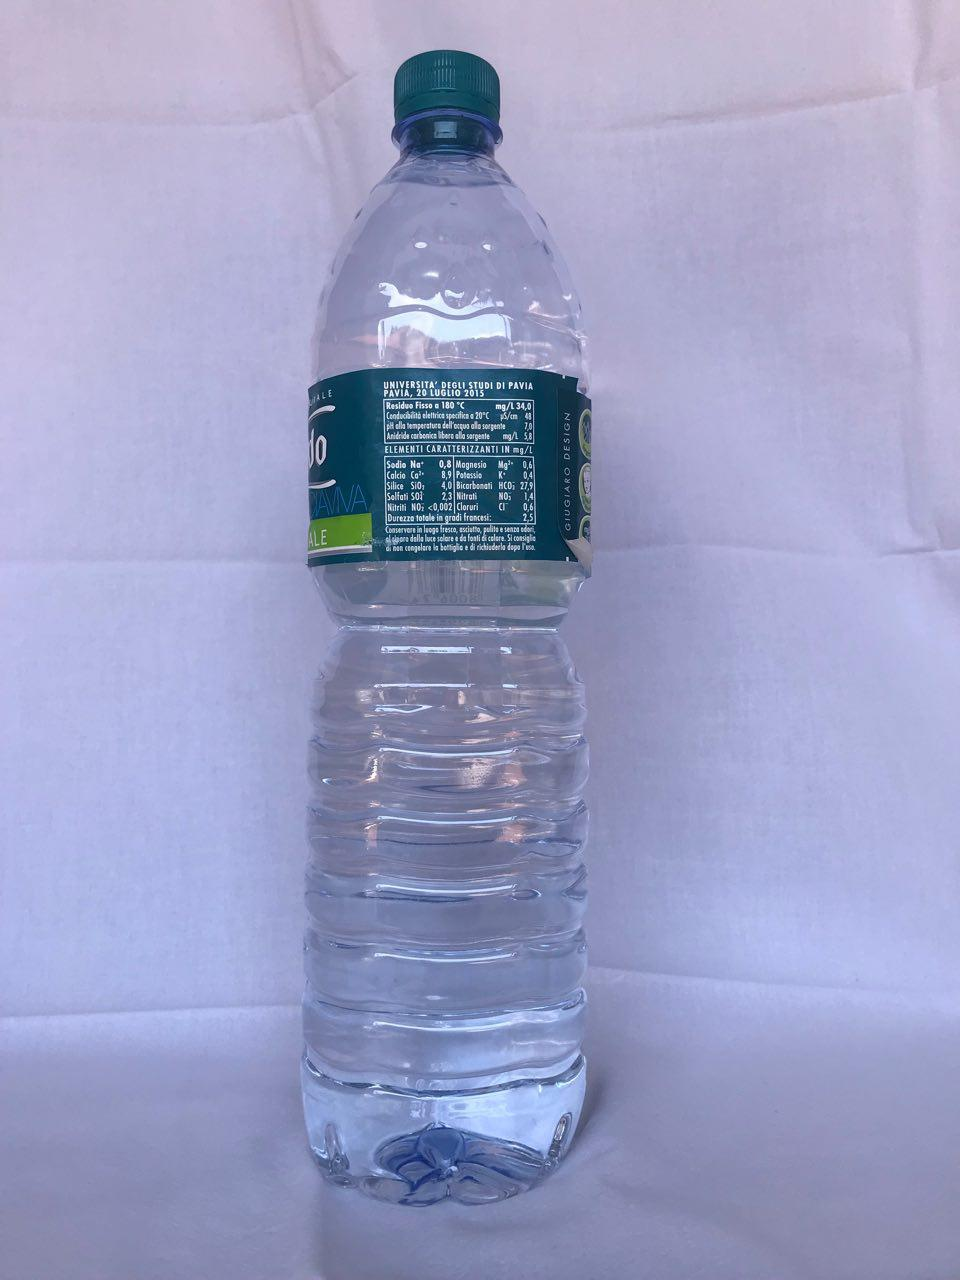san_bernardo: (298, 48, 594, 1210)
